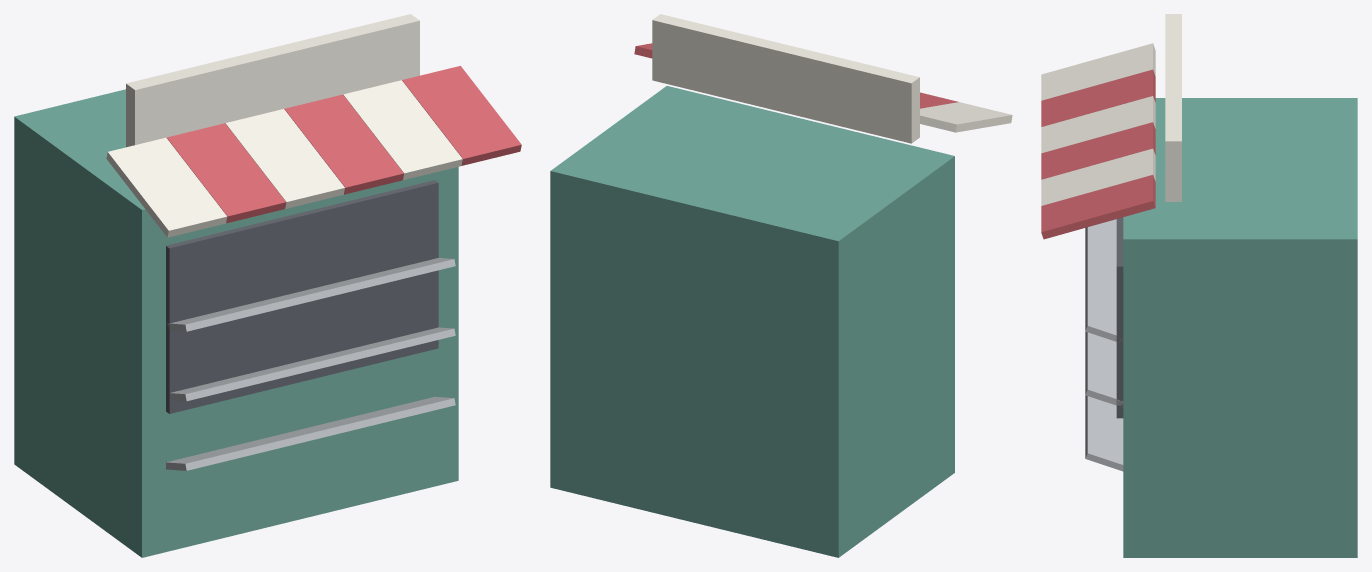
The model's file is newsstand.glb.
3 views of the same model, side by side, from view 1: azimuth 30°, elevation 25°; view 2: azimuth 150°, elevation 25°; view 3: azimuth 270°, elevation 25° (orthographic). The views are drawn at different scales.
Parts seen in each view (by area): view 1: Newsstand; view 2: Newsstand; view 3: Newsstand.
Part boxes in pixels (x1,y1,x2,y2): Newsstand: (14, 14, 521, 557); Newsstand: (550, 14, 1012, 557); Newsstand: (1041, 14, 1357, 557).
Size of the model in its own units: 2.23 by 2.7 by 1.89.
